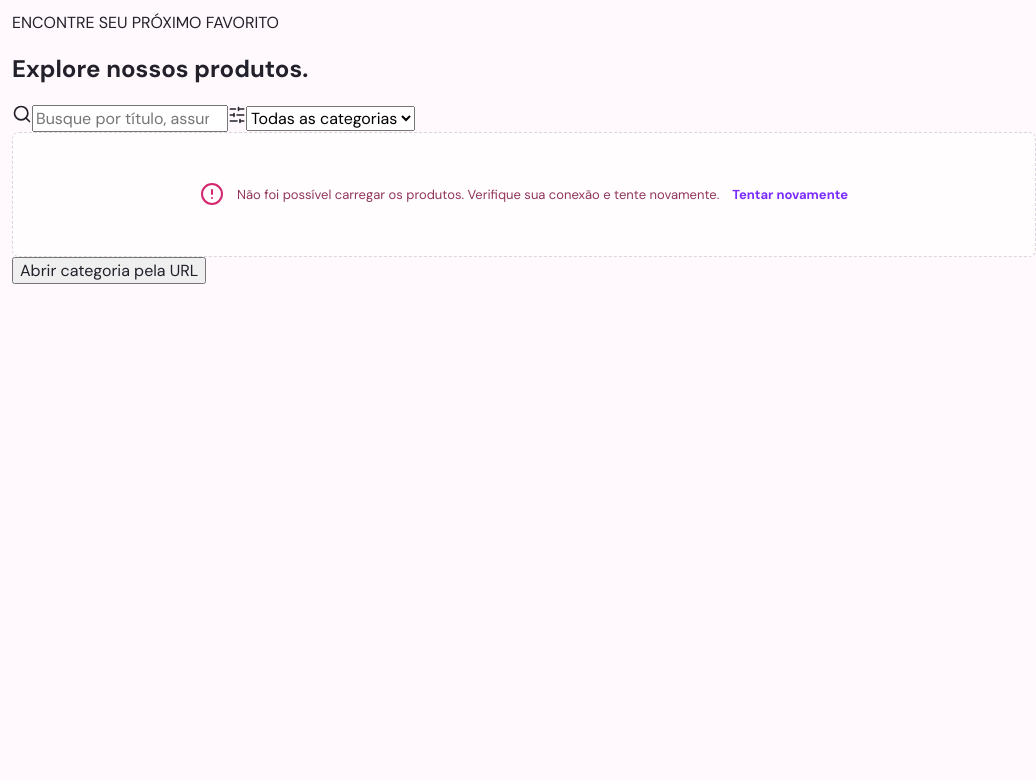
Test: catálogo público › mostra erro e permite tentar novamente
Expected: the message shows "Não foi possível carregar os produtos", [237,186,719,203]
Click the button "Tentar novamente". click: (790,194)
box: [732,186,848,203]
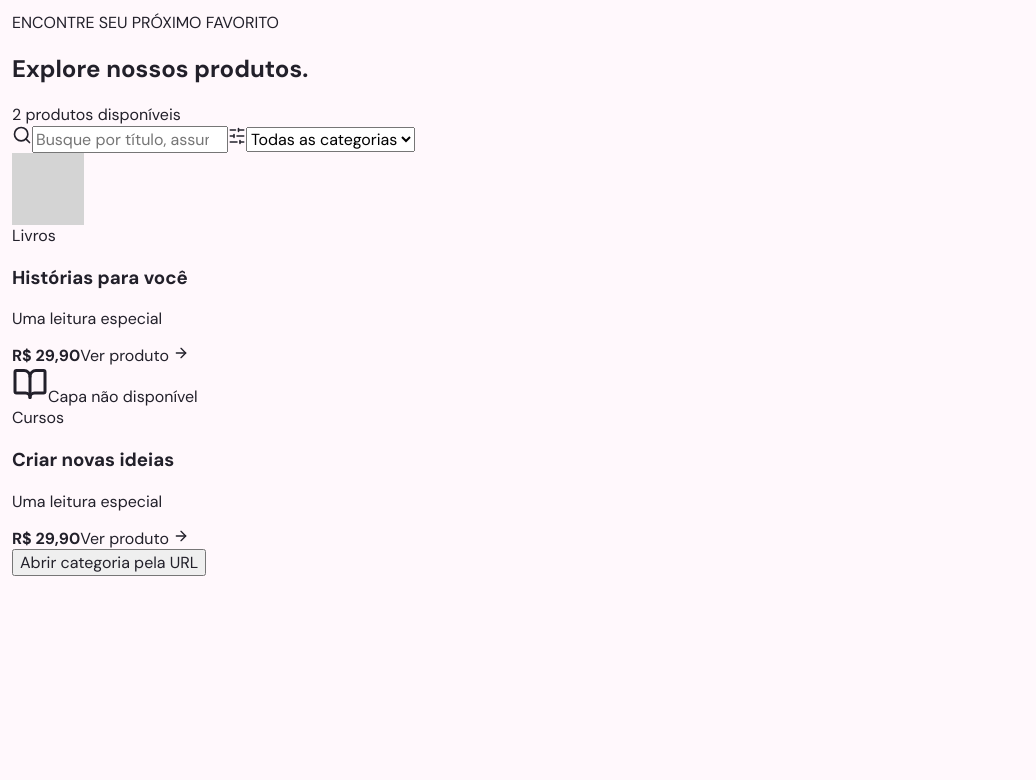
Expected: the heading "Histórias para você" is shown, [12,264,188,290]
